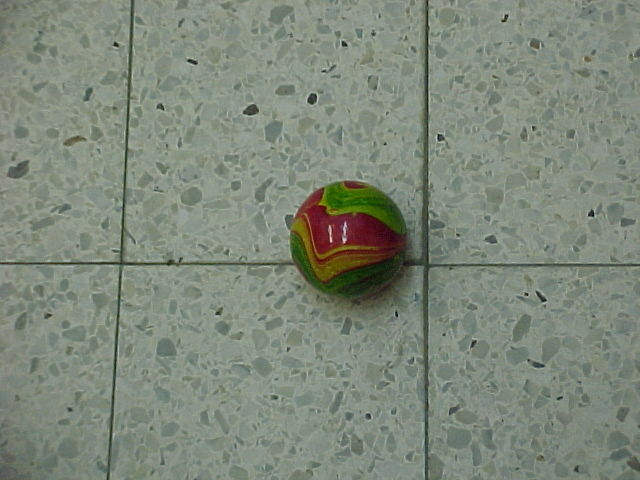WONDERBALL: (282, 173, 413, 299)
